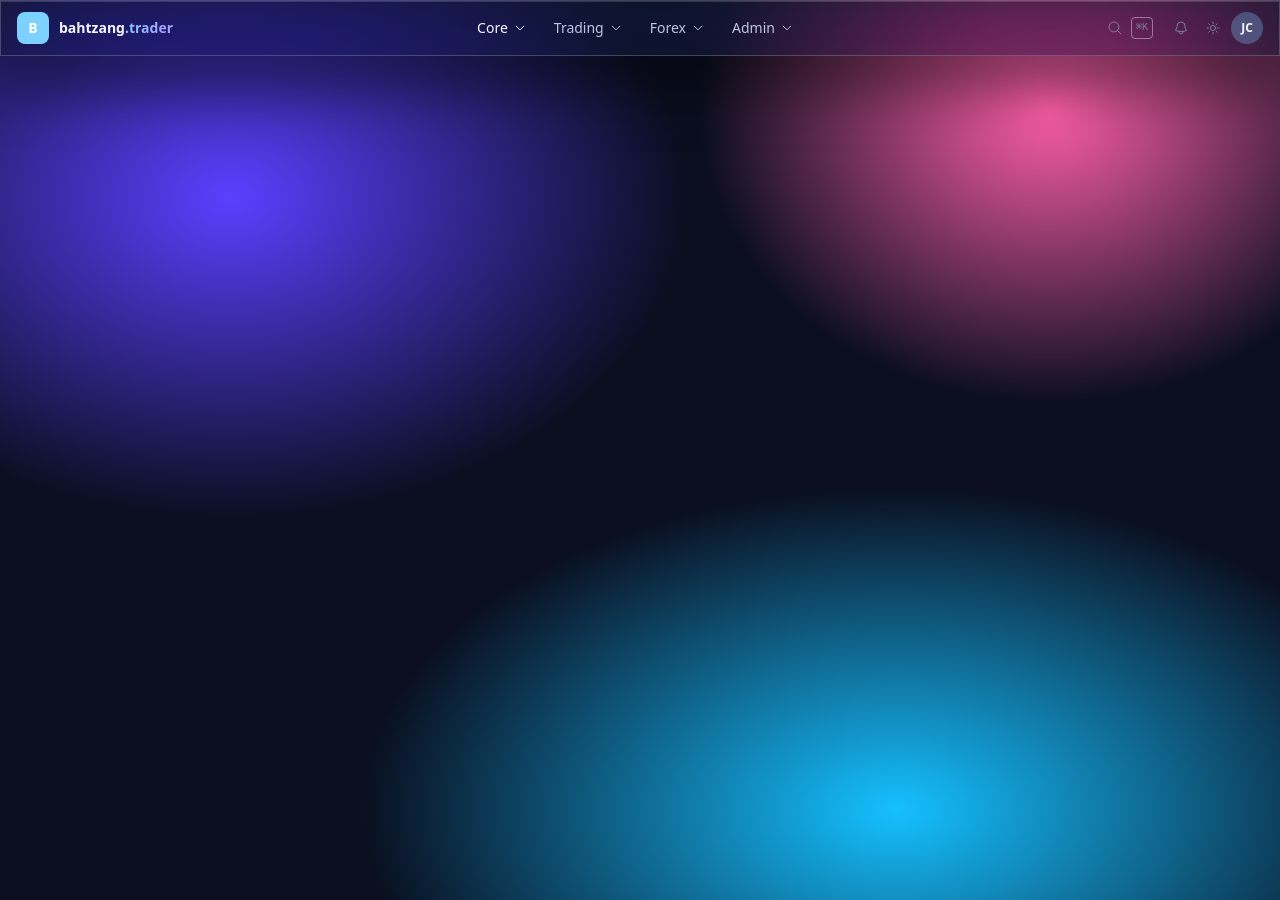
Test case: TopNav › opens Forex mega-menu with single item
Step 1. Click the button "Forex" → (677, 28), box [638,12,716,44]
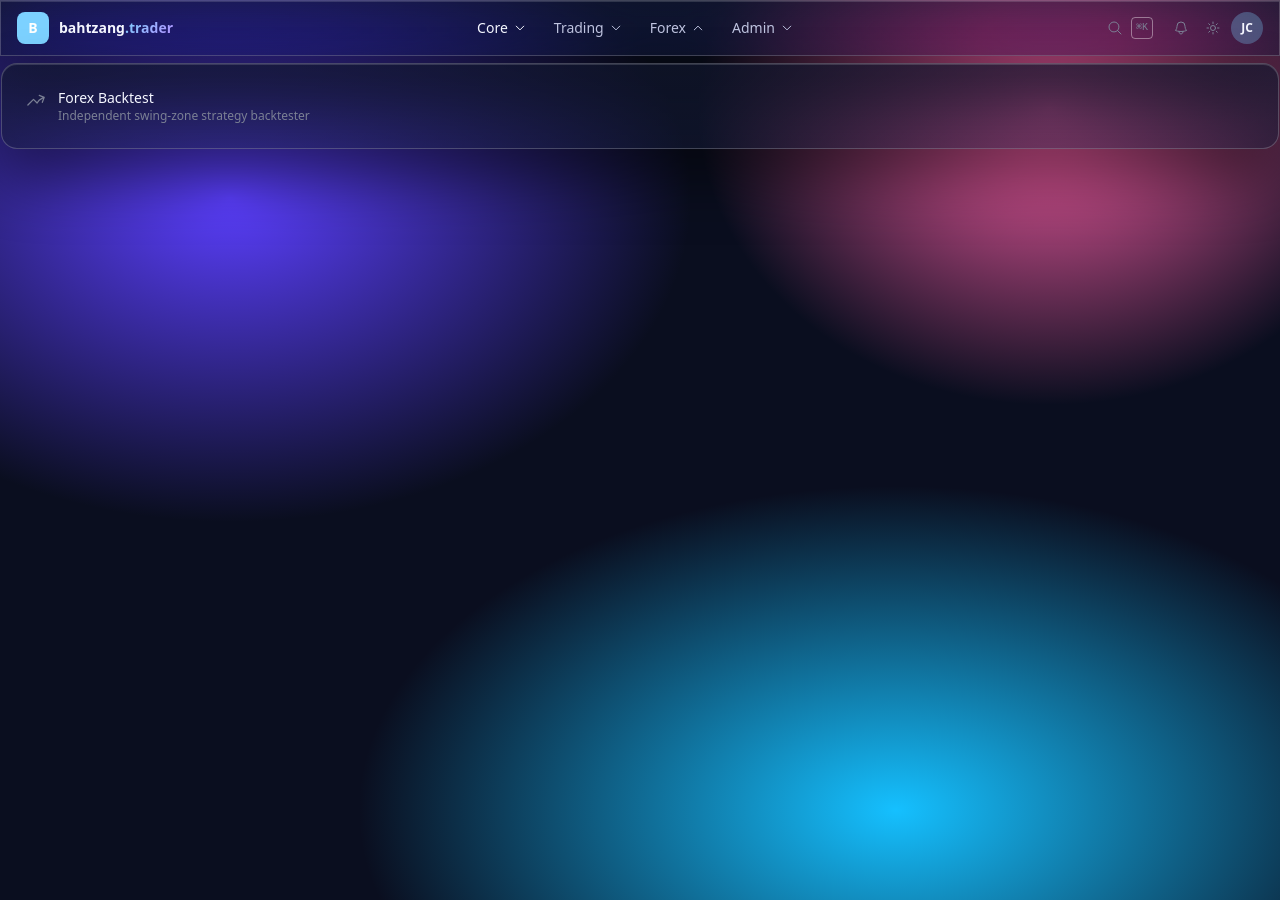
expect the number of menu items is 1: met, box [26,88,310,124]
expect the text "Forex Backtest" is shown: met, box [58,88,154,107]
